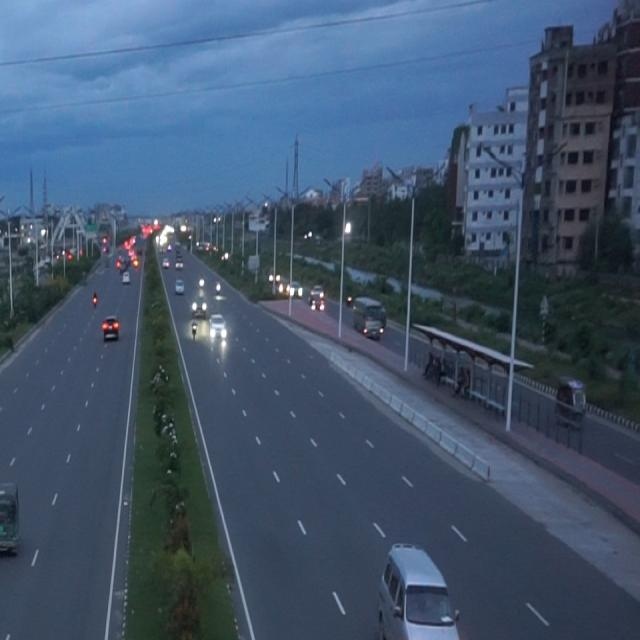car: (371, 534, 473, 640)
rickshaw: (0, 465, 29, 565)
